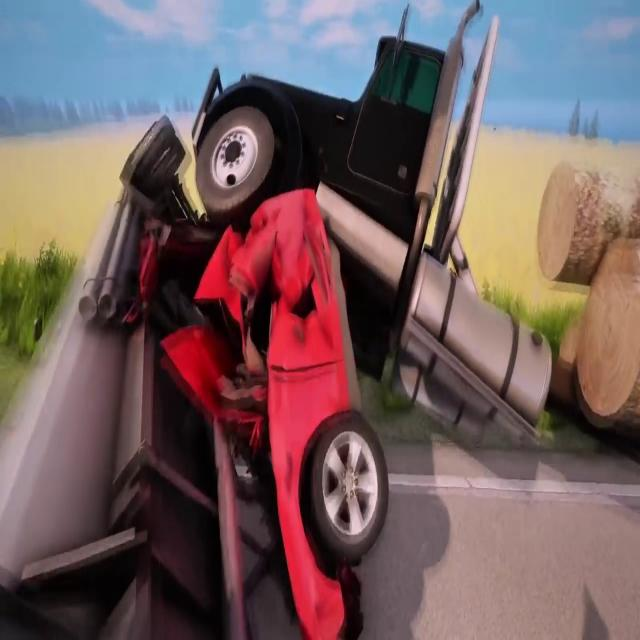accident: (41, 54, 556, 554)
